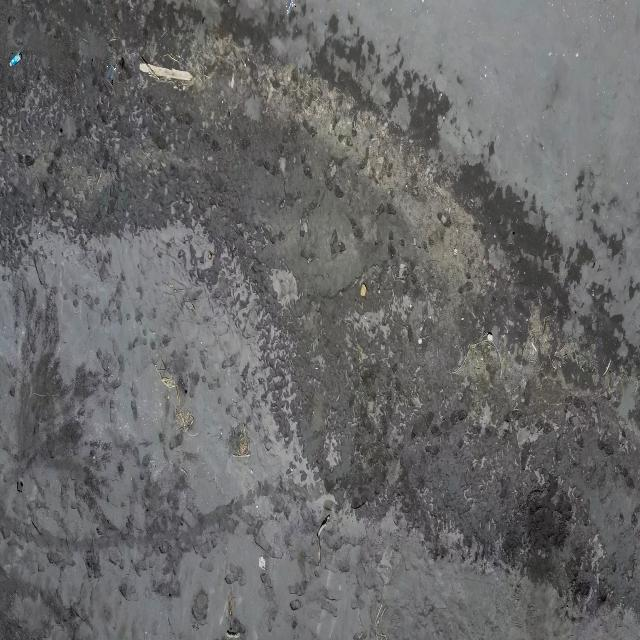plastic-bottle: (9, 52, 23, 68)
takeaway-cup: (106, 65, 116, 85), (286, 0, 296, 16)
